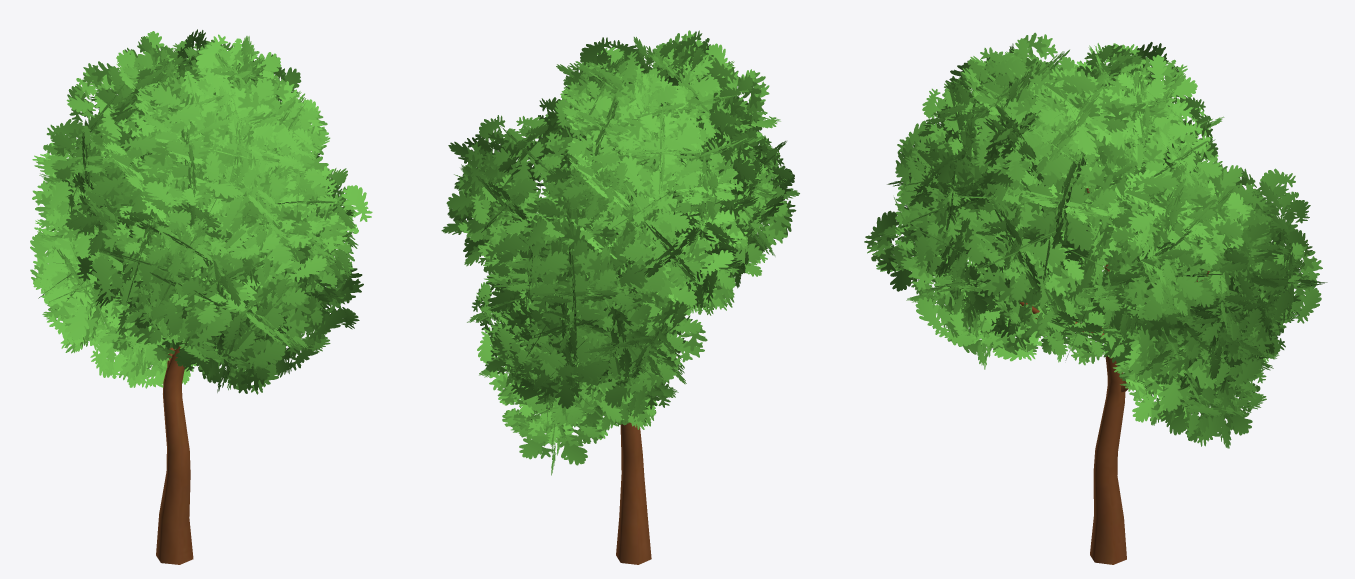
Rendered from st-oak-3.glb.
3 renders of one model, left to right at view 1: azimuth 30°, elevation 25°; view 2: azimuth 150°, elevation 25°; view 3: azimuth 270°, elevation 25°, orthographic. The views are drawn at different scales.
Parts seen in each view (by area): view 1: STOak3; view 2: STOak3; view 3: STOak3.
Part boxes in pixels (x1,y1,x2,y2): STOak3: (30, 29, 372, 564); STOak3: (441, 30, 799, 564); STOak3: (864, 32, 1327, 564).
Bounding box in the file's own units: 12.04 × 19.41 × 16.27.
2 materials, 2 textured.
